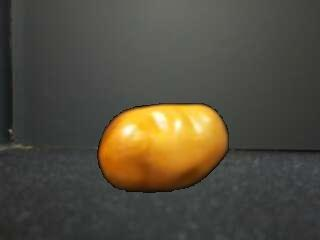Potato: (94, 103, 231, 196)
